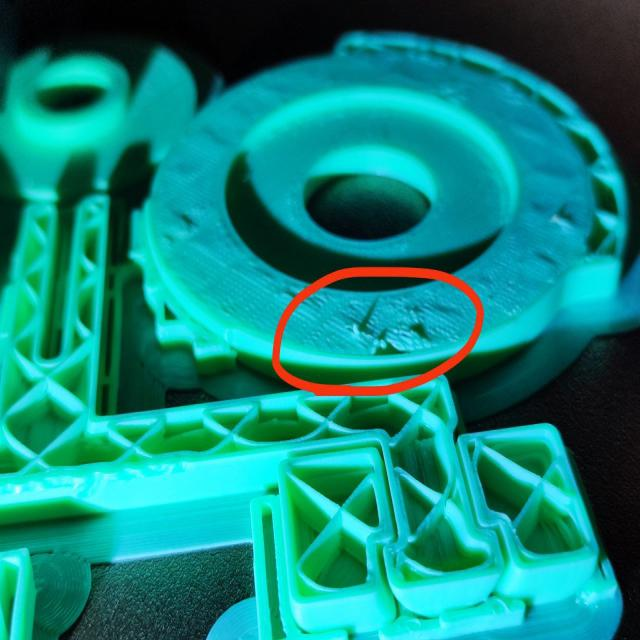blobs: (176, 204, 199, 237), (531, 246, 555, 270), (550, 210, 574, 232), (404, 317, 425, 342), (350, 320, 366, 340)
